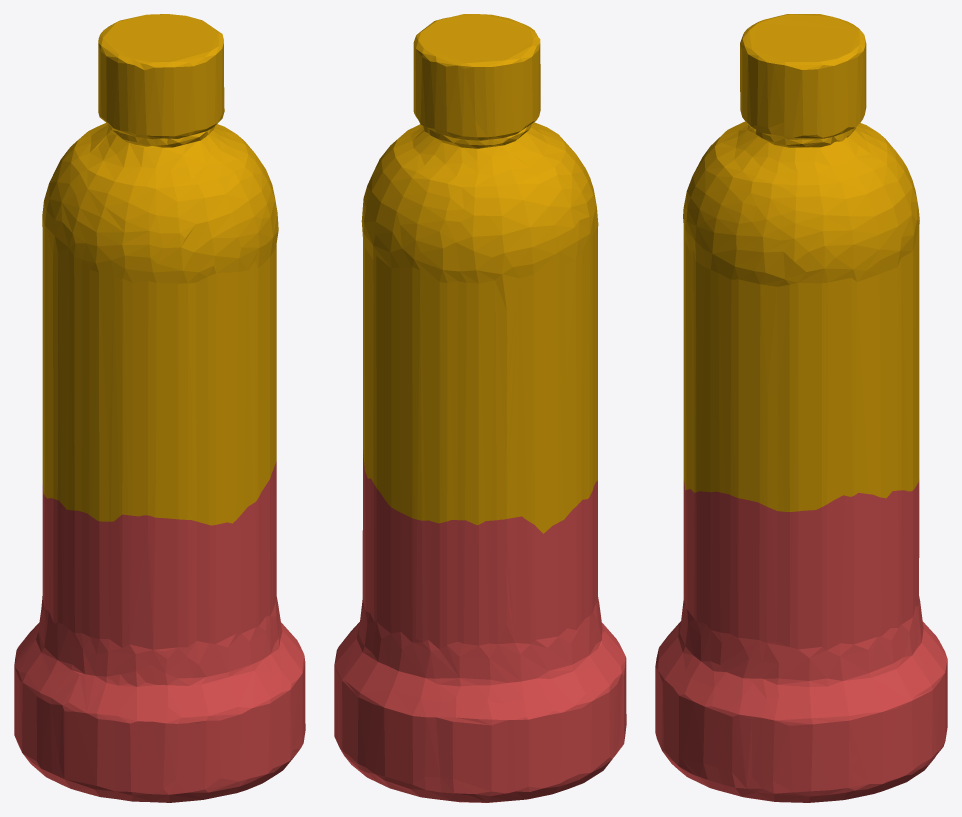
File: fractured_49_2pcs.glb
3 renders of one model, left to right at view 1: azimuth 30°, elevation 25°; view 2: azimuth 150°, elevation 25°; view 3: azimuth 270°, elevation 25°, orthographic.
Parts seen in each view (by area): view 1: piece_0.obj, piece_1.obj; view 2: piece_0.obj, piece_1.obj; view 3: piece_0.obj, piece_1.obj.
Part boxes in pixels (left/top/right/bottom): piece_0.obj: left=42, top=14, right=278, bottom=525; piece_1.obj: left=14, top=461, right=305, bottom=802; piece_0.obj: left=361, top=14, right=598, bottom=533; piece_1.obj: left=334, top=450, right=626, bottom=802; piece_0.obj: left=683, top=14, right=919, bottom=511; piece_1.obj: left=655, top=479, right=947, bottom=802.
Bounding box in the file's own units: 0.3732 × 1 × 0.3731.
